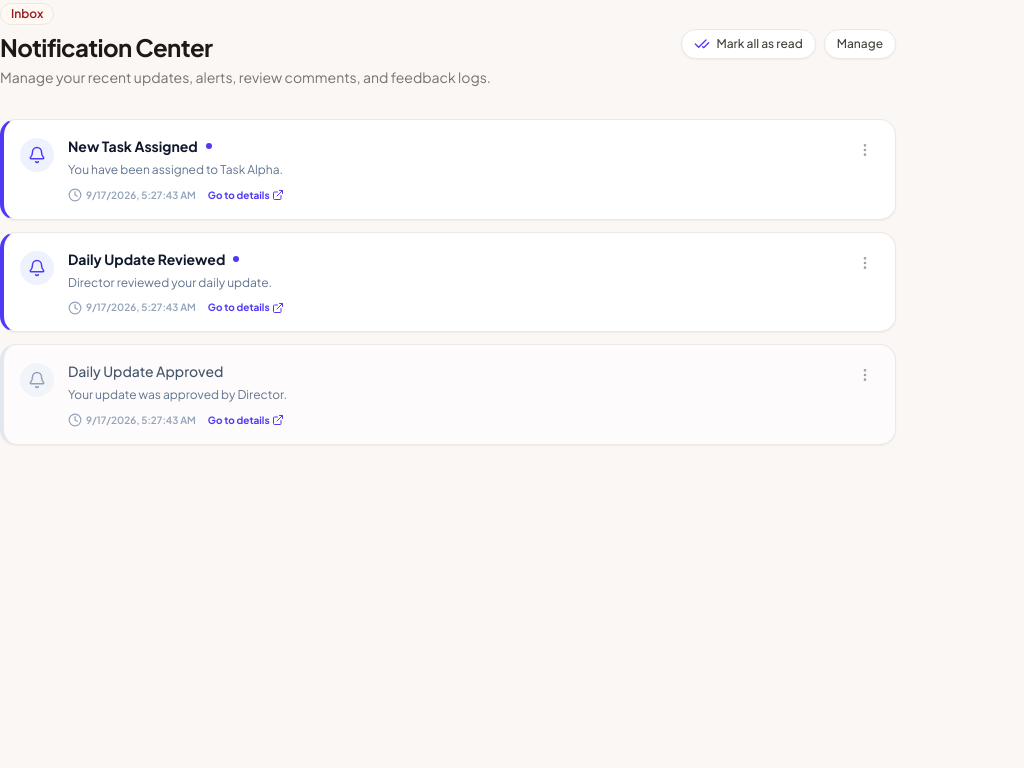
Test case: Notification Center - Manage Mode & Deletion Redesign › Individual Notification Deletion (Three-Dot Menu) › opens 3-dot menu, shows appropriate actions, prompts confirmation, and deletes single item
Expected: the heading "New Task Assigned" is shown, [68,136,198,156]
// Open 3-dot menu for unread notification
Click the button named "Options for New Task Assigned". click: click(865, 150)
box: [851,136,879,164]
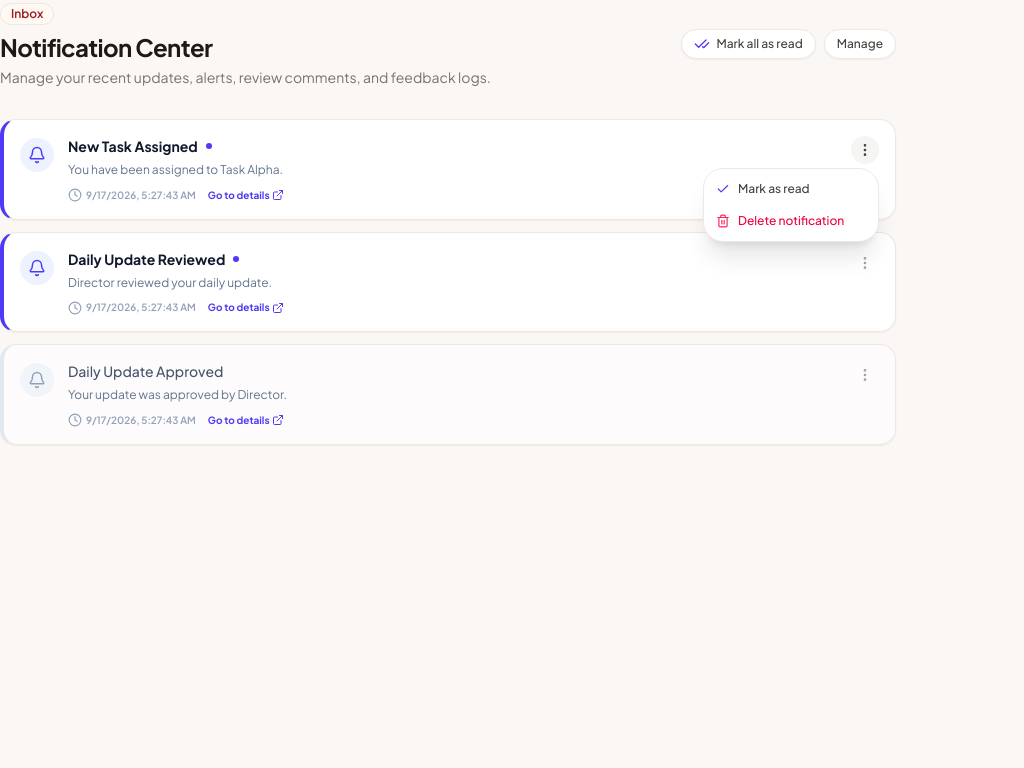
Now the button "Mark as read" is shown, box [704,173,878,205]
Now the button "Delete notification" is shown
Click the button "Delete notification". click: click(791, 221)
box: [704,205,878,237]
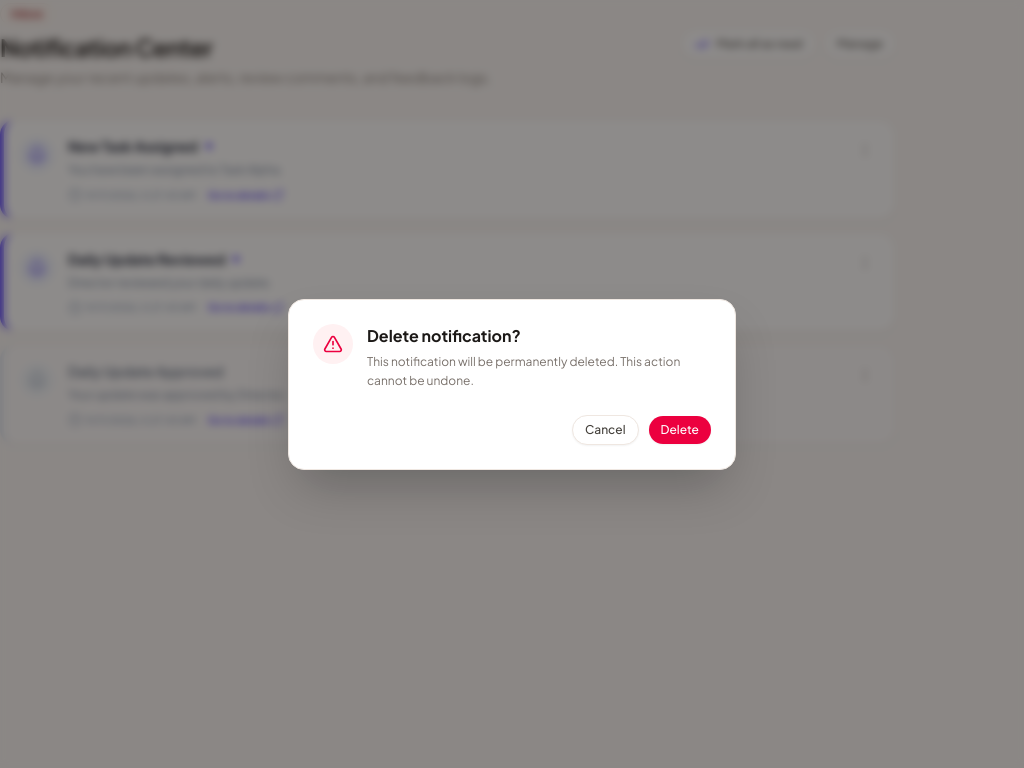
Now the heading "Delete notification?" is shown, box [367,324,521,346]
Now the text "This notification will be permanently deleted. This action cannot be undone." is shown, box [367,352,711,390]
// Cancel does not delete
Click the button "Cancel". click: click(605, 430)
box: [572,414,638,444]
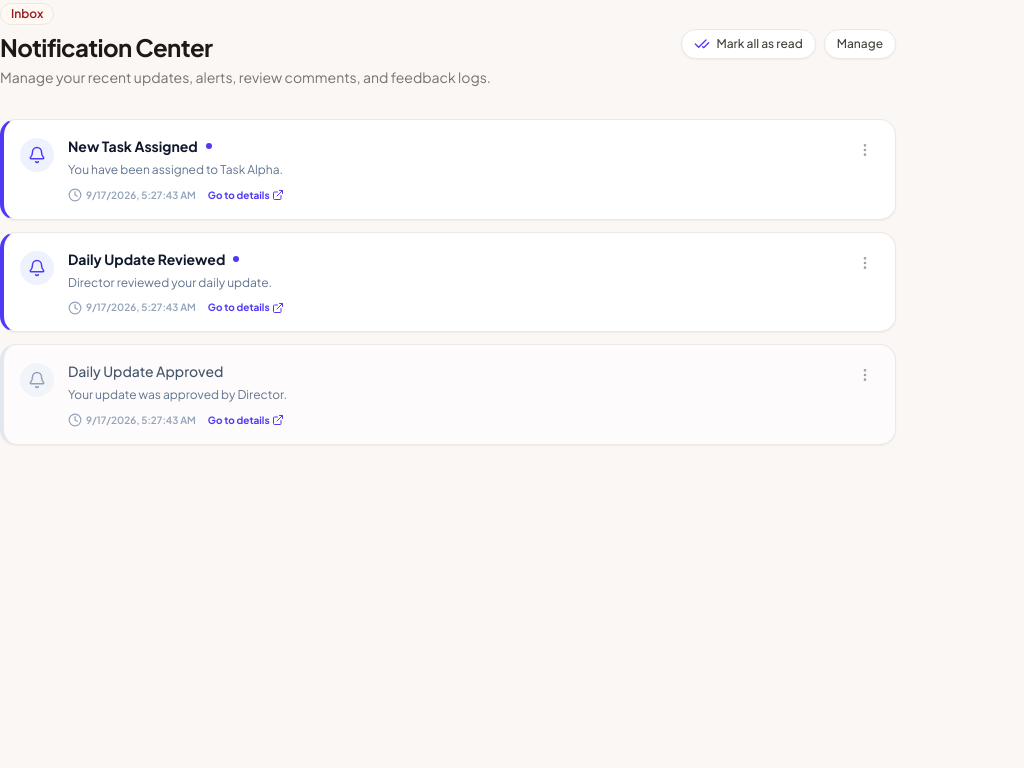
Expected: the heading "New Task Assigned" is shown, [68,136,198,156]
Now the heading "Delete notification?" is gone
// Click delete again and confirm
Click the button named "Options for New Task Assigned". click: click(865, 150)
box: [851,136,879,164]
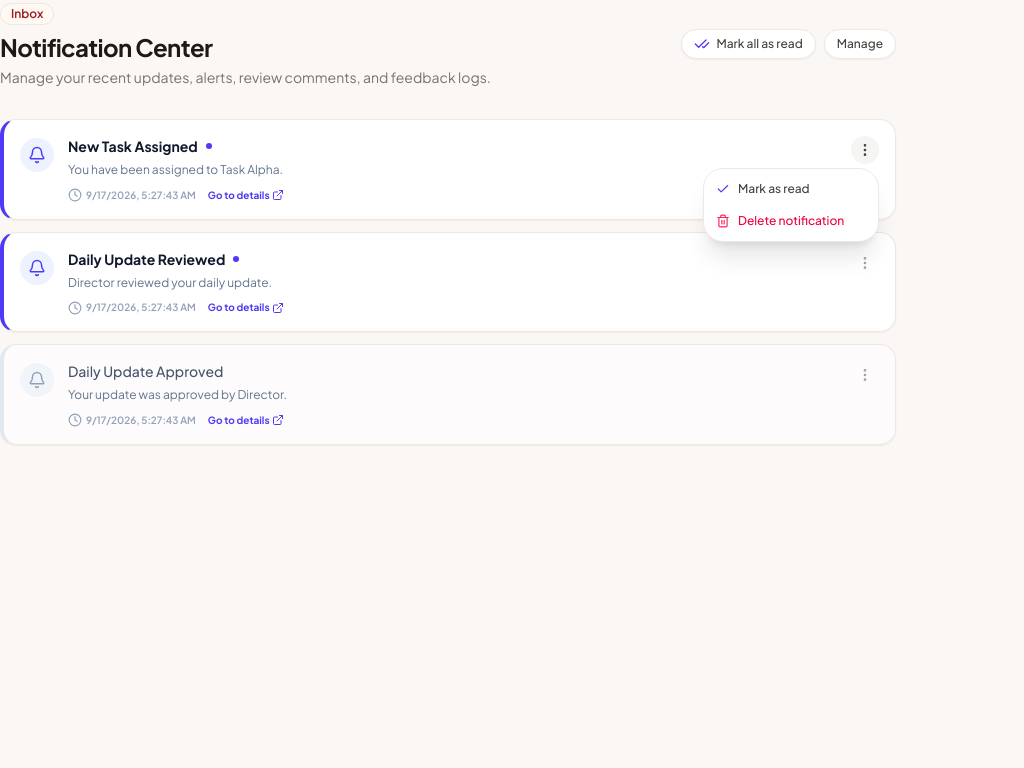
Click the button "Delete notification". click: click(791, 221)
box: [704,205,878,237]
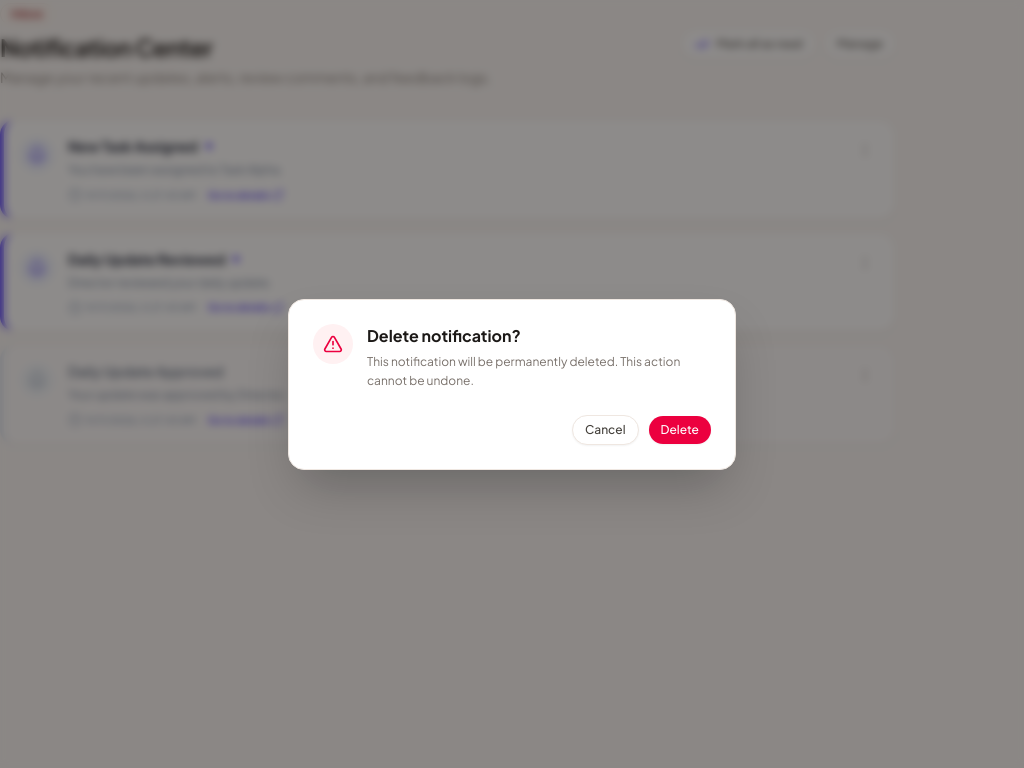
Click the button "Delete". click: click(680, 430)
box: [649,416,711,444]
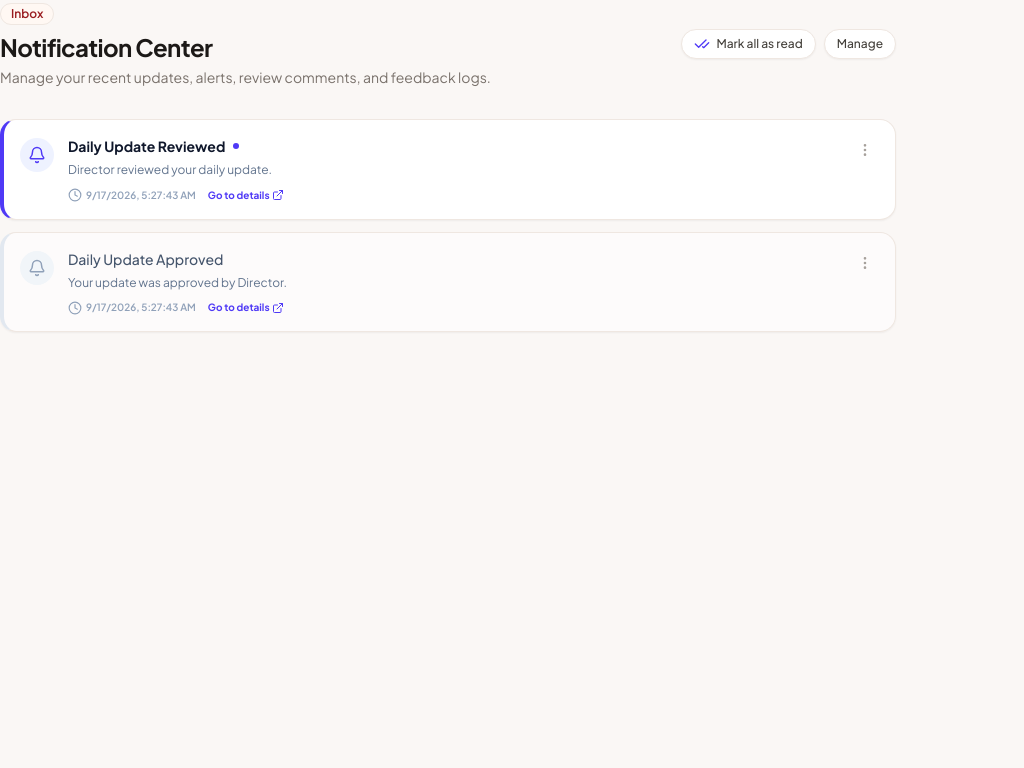
Expected: the heading "Daily Update Reviewed" is shown, [68,136,225,156]
Now the heading "New Task Assigned" is gone
